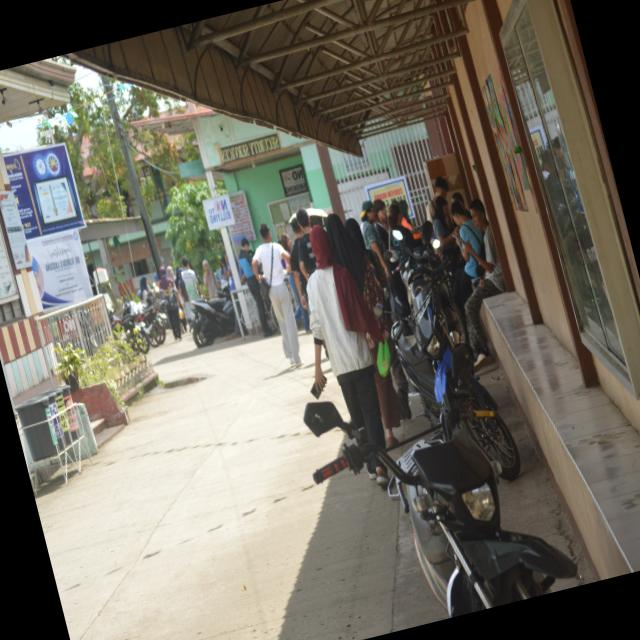person: (306, 226, 384, 448), (251, 224, 302, 367), (463, 199, 505, 370), (325, 214, 384, 315), (238, 238, 274, 337), (280, 234, 310, 333), (289, 221, 307, 312), (295, 208, 315, 280), (202, 260, 217, 299)
